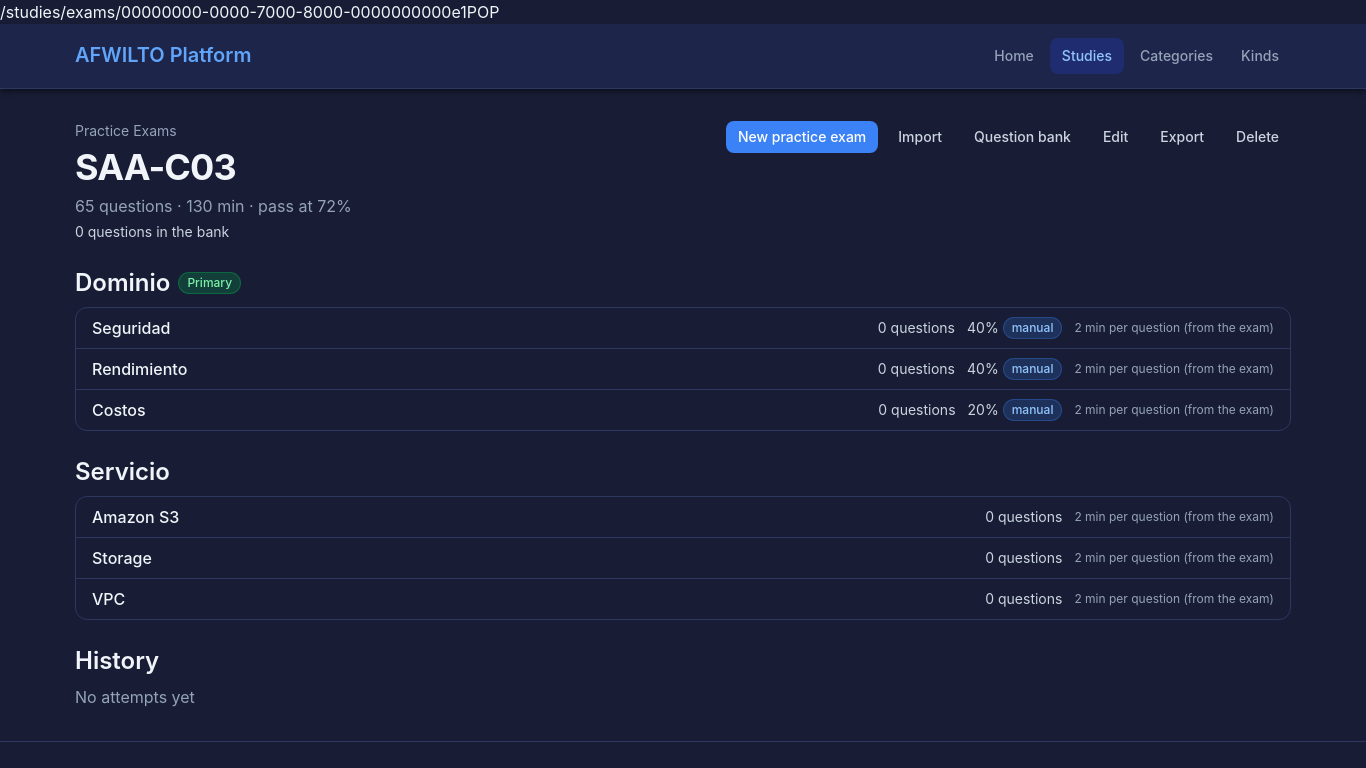
Test: ExamOverviewPage: actions › an exam without questions is deleted: toast, then back to the subject exams
Click the button "Delete" at (1258, 137), box [1224, 121, 1291, 153]
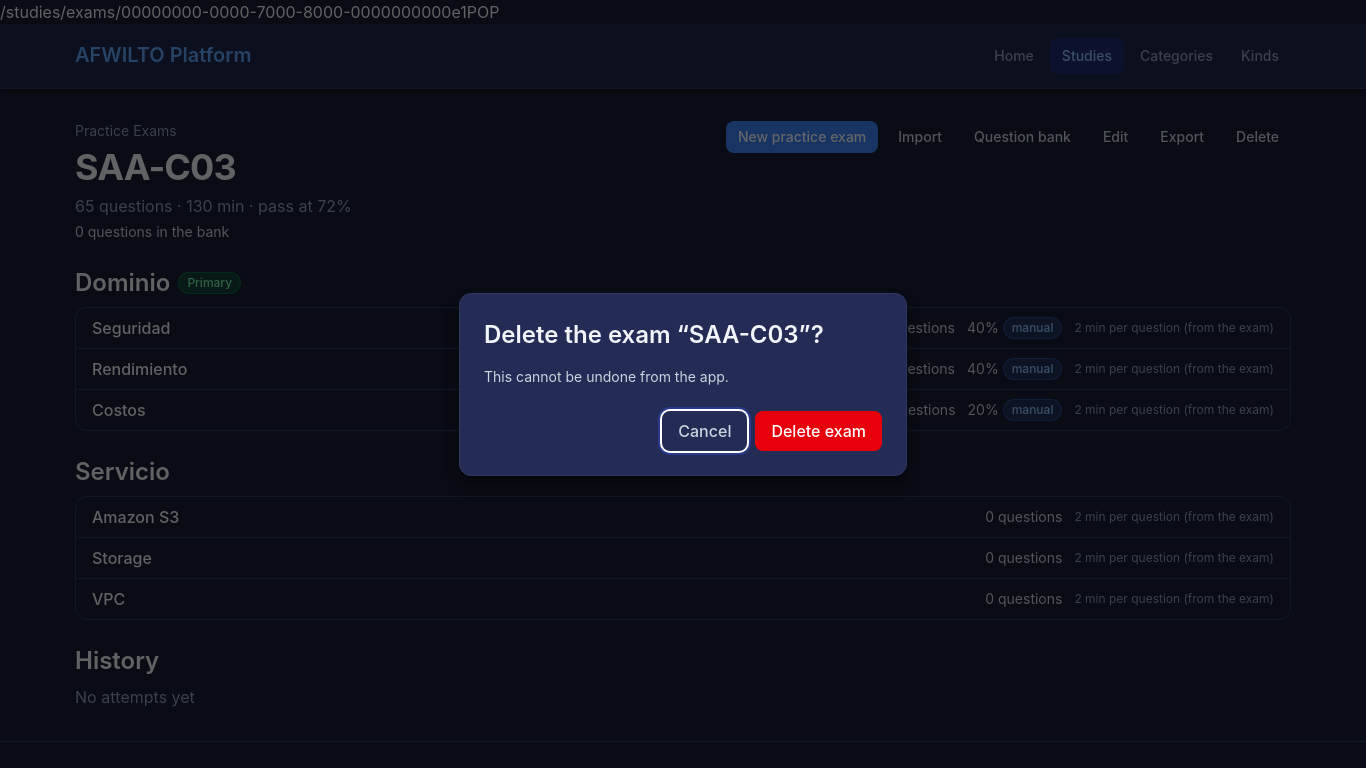
Click the button "Delete exam" at (819, 430), box [755, 410, 882, 450]
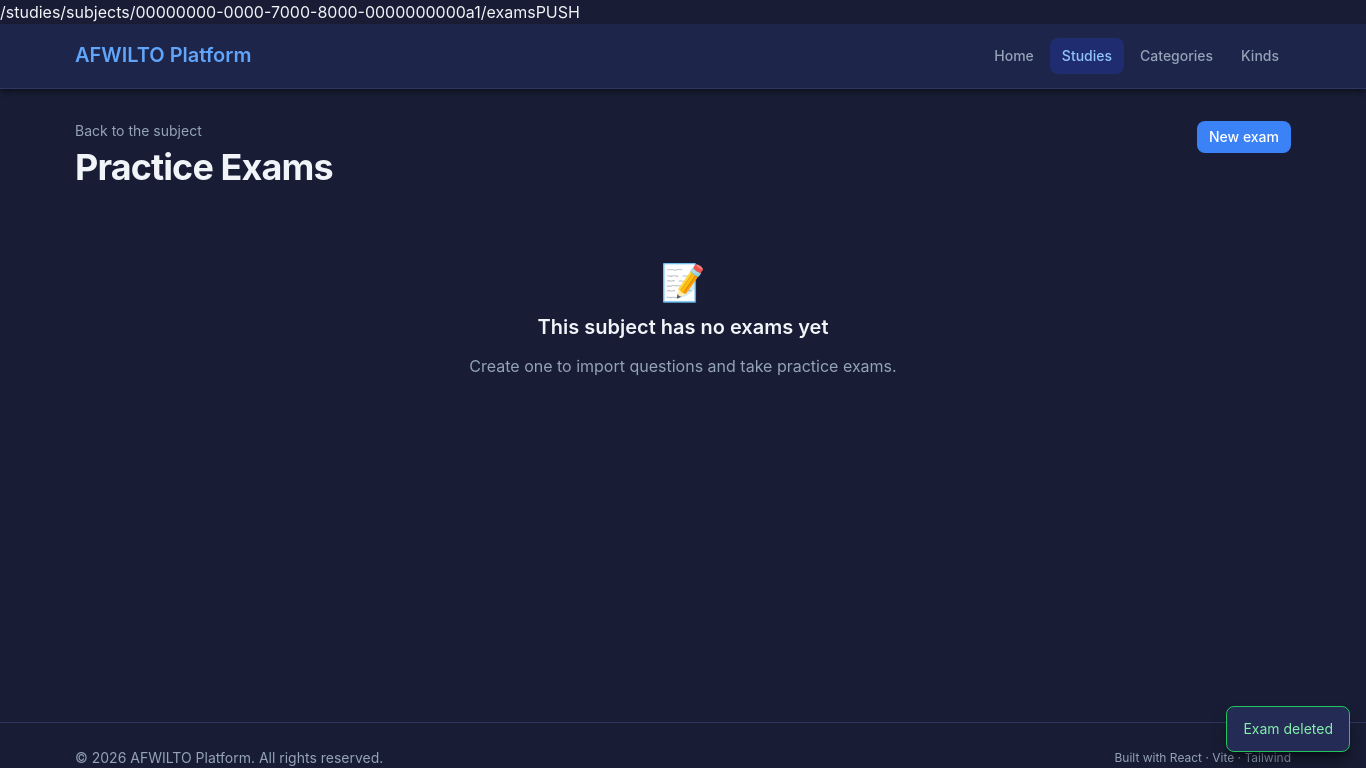
Now the text "Exam deleted" is shown, box [1226, 706, 1350, 752]
